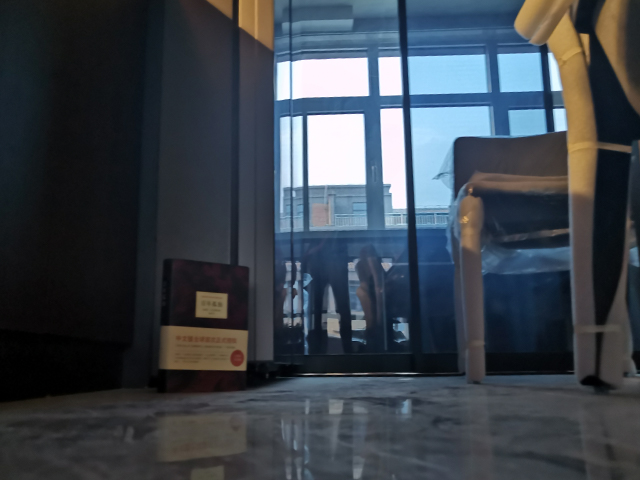book: (152, 257, 253, 396)
stool: (445, 128, 574, 387)
